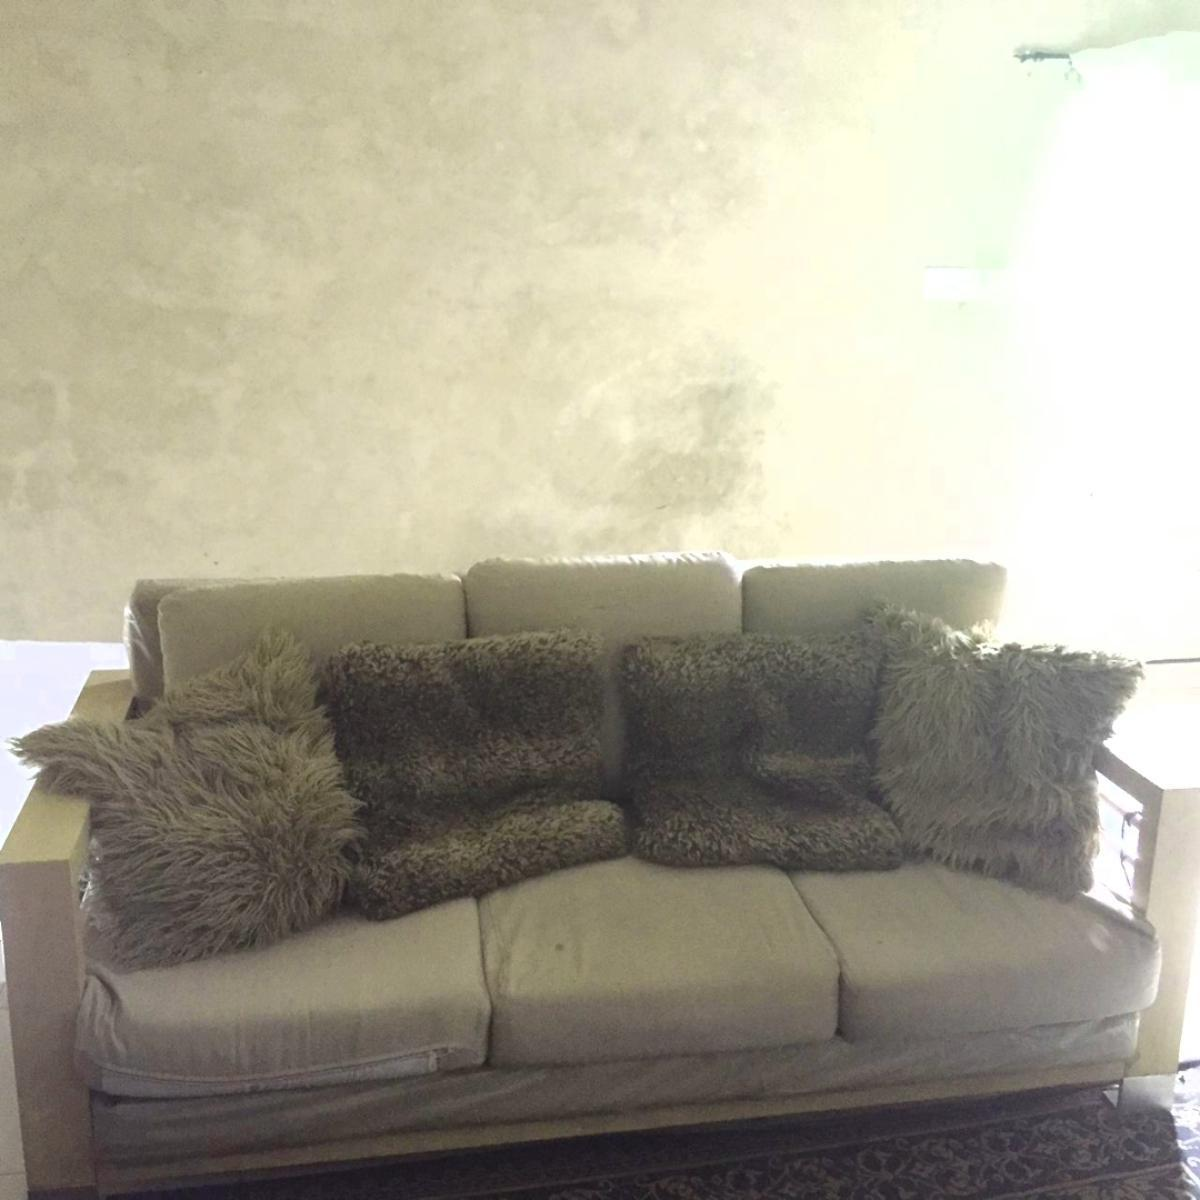Sofa: (9, 555, 1185, 1186)
